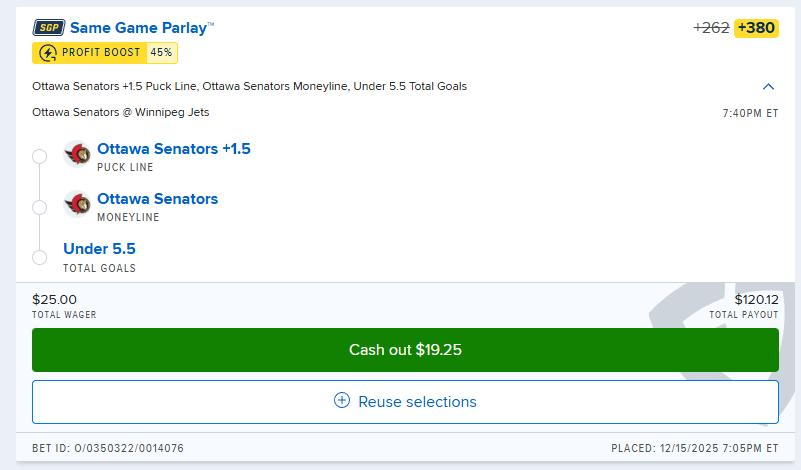game: (30, 106, 214, 120)
odds: (736, 19, 779, 38)
payout: (731, 291, 782, 307)
wager: (30, 289, 78, 308)
